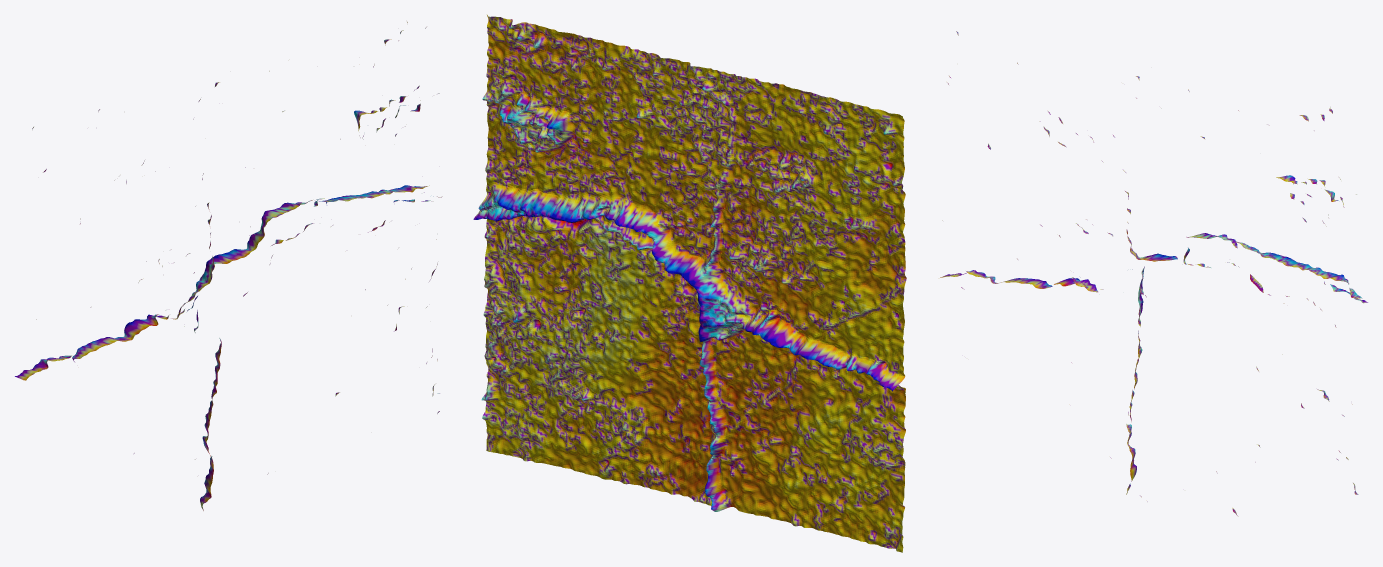
The picture shows the model from 3 angles, left to right: view 1: azimuth 30°, elevation 25°; view 2: azimuth 150°, elevation 25°; view 3: azimuth 330°, elevation 25°; orthographic projection.
Parts seen in each view (by area): view 1: world; view 2: world; view 3: world.
Part boxes in pixels (left/top/right/bottom): world: left=15, top=22, right=442, bottom=510; world: left=473, top=15, right=906, bottom=552; world: left=940, top=31, right=1367, bottom=516.
Size of the model in its own units: 299 by 299 by 29.
